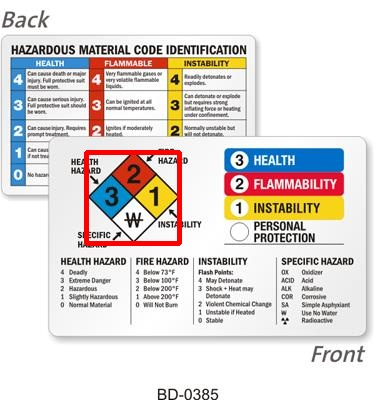nfpa: (86, 152, 179, 243)
